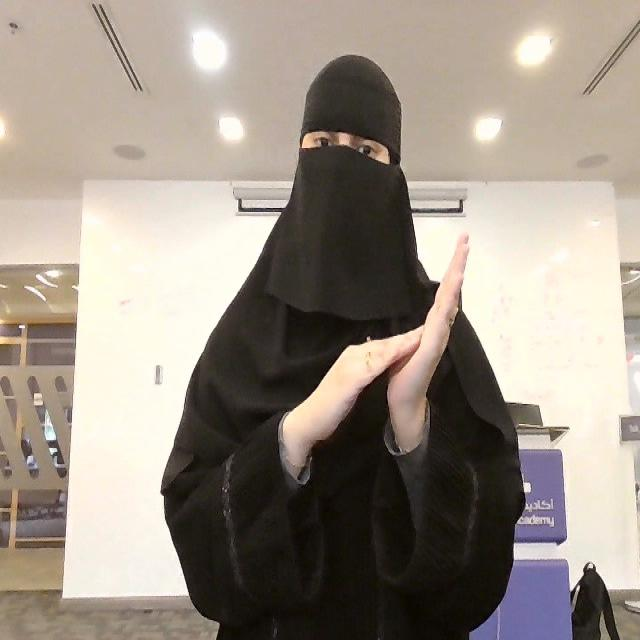complaint: (280, 229, 476, 485)
